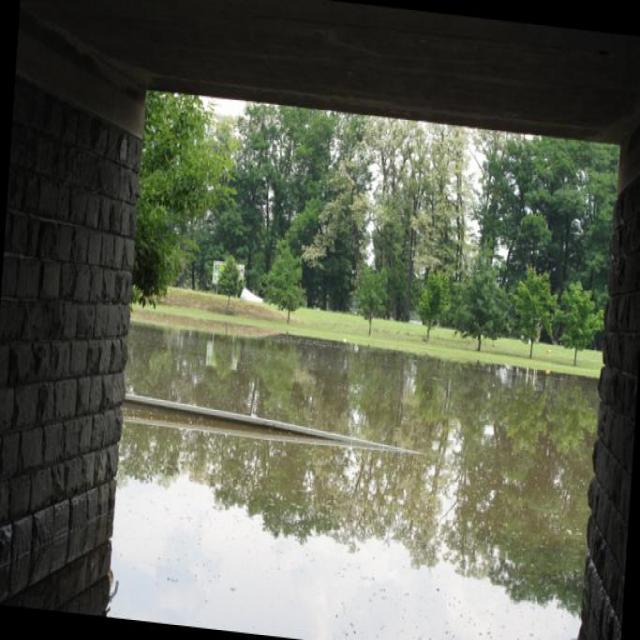flood: (107, 318, 602, 639)
